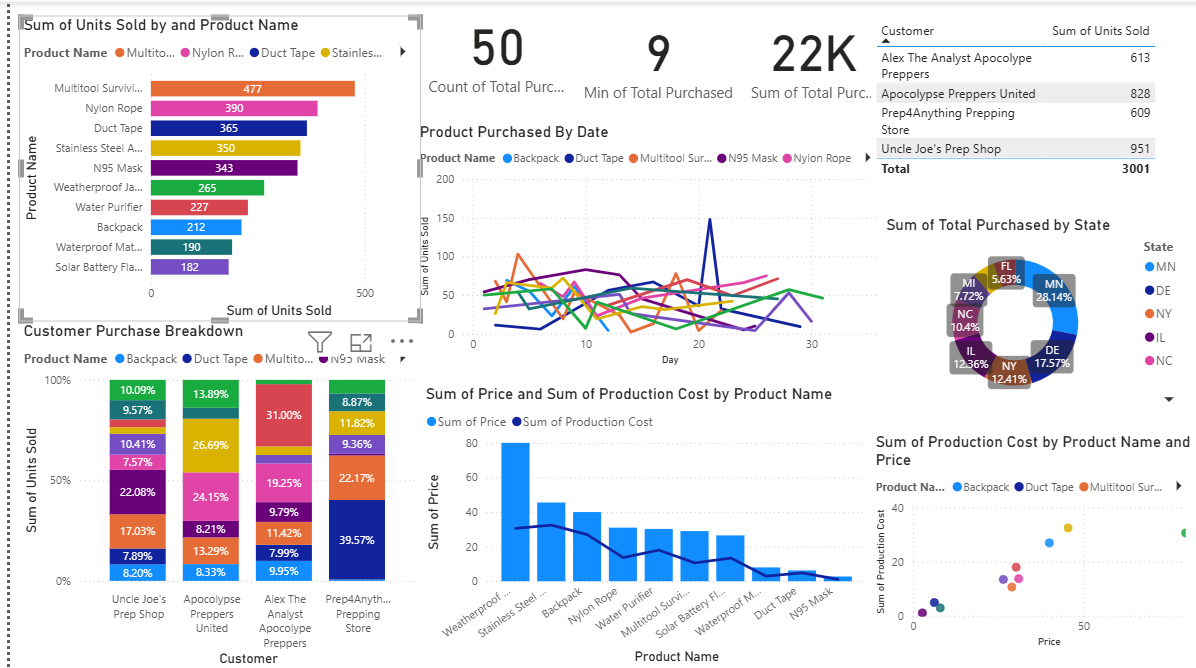

The dashboard page shown, as its layout file describes it:
{"tool":"powerbi","page":{"name":"Purchase","canvas":[1280,720],"ordinal":0},"visuals":[{"type":"barChart","title":"Sum of Units Sold by and Product Name","fields":{"Category":["Apocolypse Store.Product Name"],"Y":["Apocolypse Sales.Units Sold"],"Series":["Apocolypse Store.Product Name"]},"box":[9.7,14.6,434,330.3],"z":0},{"type":"hundredPercentStackedColumnChart","title":"Customer Purchase Breakdown","fields":{"Category":["Customer Information.Customer"],"Y":["Apocolypse Sales.Units Sold"],"Series":["Apocolypse Store.Product Name"]},"box":[9.7,344.9,434,375.7],"z":1000},{"type":"lineChart","title":"Product Purchased By Date","fields":{"Y":["Apocolypse Sales.Units Sold"],"Series":["Apocolypse Store.Product Name"],"Category":["Apocolypse Sales.Date Purchased.Variation.Date Hierarchy.Day"]},"box":[437.2,129.5,503.6,267.2],"z":2000},{"type":"lineStackedColumnComboChart","fields":{"Category":["Apocolypse Store.Product Name"],"Y":["Apocolypse Store.Price"],"Y2":["Apocolypse Store.Production Cost"]},"box":[443.7,412.9,485.8,306],"z":3000},{"type":"scatterChart","fields":{"Y":["Apocolypse Store.Production Cost"],"X":["Apocolypse Store.Price"],"Series":["Apocolypse Store.Product Name"]},"box":[929.4,464.7,351.4,236.4],"z":4000},{"type":"donutChart","fields":{"Category":["Customer Buyer Information.State"],"Y":["Customer Buyer Information.Total Purchased"]},"box":[940.8,229.9,340,212.1],"z":5000},{"type":"card","fields":{"Values":["Customer Buyer Information.Total Purchased"]},"box":[793.4,0,147.3,118.2],"z":6000},{"type":"card","fields":{"Values":["Customer Buyer Information.Total Purchased"]},"box":[605.6,0,187.8,118.2],"z":7000},{"type":"card","fields":{"Values":["Customer Buyer Information.Total Purchased"]},"box":[443.7,0,161.9,103.6],"z":8000},{"type":"tableEx","fields":{"Values":["Customer Information.Customer","Apocolypse Sales.Units Sold"]},"box":[929.4,14.6,351.4,215.4],"z":9000}]}

Visuals, with their boxes in screenshot pixels (x1, y1, x2, y2), scaled from the page's 1280x720 canvas onto the 1196x668 screenshot:
"Sum of Units Sold by and Product Name" barChart: left=9, top=14, right=415, bottom=320
"Customer Purchase Breakdown" hundredPercentStackedColumnChart: left=9, top=320, right=415, bottom=667
"Product Purchased By Date" lineChart: left=409, top=120, right=879, bottom=368
lineStackedColumnComboChart - Apocolypse Store.Product Name x Apocolypse Store.Price: left=415, top=383, right=869, bottom=667
scatterChart - Apocolypse Store.Production Cost x Apocolypse Store.Price: left=868, top=431, right=1195, bottom=650
donutChart - Customer Buyer Information.State x Customer Buyer Information.Total Purchased: left=879, top=213, right=1195, bottom=410
card - Customer Buyer Information.Total Purchased: left=741, top=0, right=879, bottom=110
card - Customer Buyer Information.Total Purchased: left=566, top=0, right=741, bottom=110
card - Customer Buyer Information.Total Purchased: left=415, top=0, right=566, bottom=96
tableEx - Customer Information.Customer x Apocolypse Sales.Units Sold: left=868, top=14, right=1195, bottom=213
